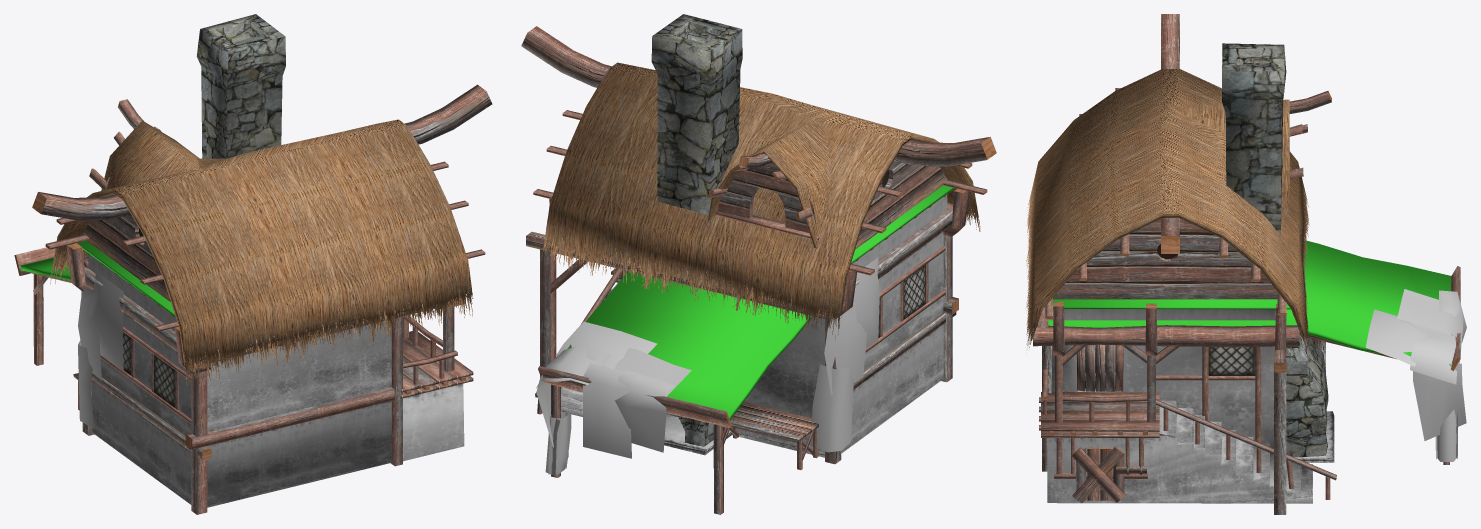
File: house_lod_1.fbx
The picture shows the model from 3 angles, left to right: view 1: azimuth 30°, elevation 25°; view 2: azimuth 150°, elevation 25°; view 3: azimuth 270°, elevation 25°; orthographic projection. The views are drawn at different scales.
Parts seen in each view (by area): view 1: roof, walls, wood_planks, fireplace, plants_inside, wood_planes, plants_outside, windows; view 2: roof, wood_planks, plants_inside, walls, wood_planes, fireplace, plants_outside, windows; view 3: wood_planks, roof, walls, fireplace, wood_planes, plants_inside, plants_outside, windows.
Part boxes in pixels (box(x1,y1,x2,y2)): roof: box(50, 119, 473, 385); walls: box(14, 192, 465, 507); wood_planks: box(16, 84, 492, 514); fireplace: box(196, 14, 285, 158); plants_inside: box(78, 271, 123, 428); wood_planes: box(21, 240, 175, 316); plants_outside: box(78, 273, 123, 426); windows: box(123, 332, 175, 407); roof: box(542, 62, 980, 334); wood_planks: box(521, 26, 989, 514); plants_inside: box(536, 257, 879, 476); walls: box(535, 137, 996, 457); wood_planes: box(567, 185, 954, 420); fireplace: box(651, 14, 742, 446); plants_outside: box(536, 262, 879, 474); windows: box(878, 265, 925, 338); wood_planks: box(1033, 14, 1460, 514); roof: box(1026, 69, 1309, 347); walls: box(1042, 91, 1460, 503); fireplace: box(1222, 43, 1328, 457); wood_planes: box(1048, 240, 1451, 365); plants_inside: box(1365, 289, 1466, 461); plants_outside: box(1366, 289, 1465, 461); windows: box(1208, 347, 1255, 375).
Size of the model in its own units: 14.22 by 11.35 by 11.66.
